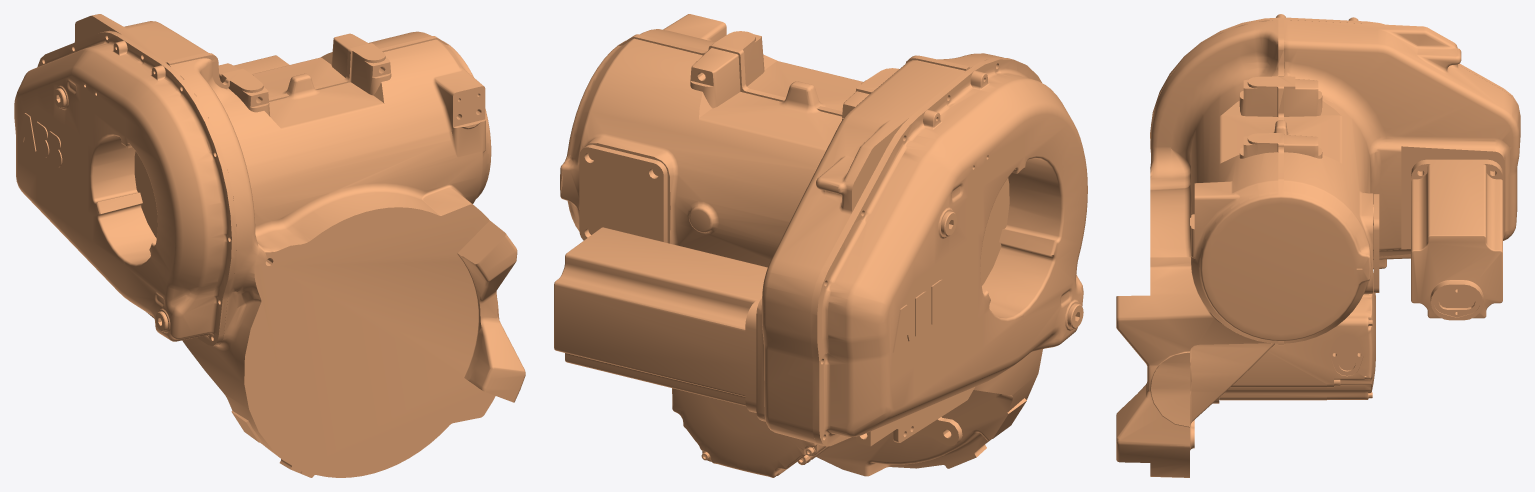
3 renders of one model, left to right at view 1: azimuth 30°, elevation 25°; view 2: azimuth 150°, elevation 25°; view 3: azimuth 270°, elevation 25°, orthographic. The views are drawn at different scales.
Parts seen in each view (by area): view 1: link_3; view 2: link_3; view 3: link_3.
Boxes of the visible parts, x1,y1,x2,y2 form: link_3: (14,14,525,477); link_3: (554,14,1087,477); link_3: (1116,14,1520,477).
Size of the model in its own units: 0.5115 by 0.572 by 0.5855.
